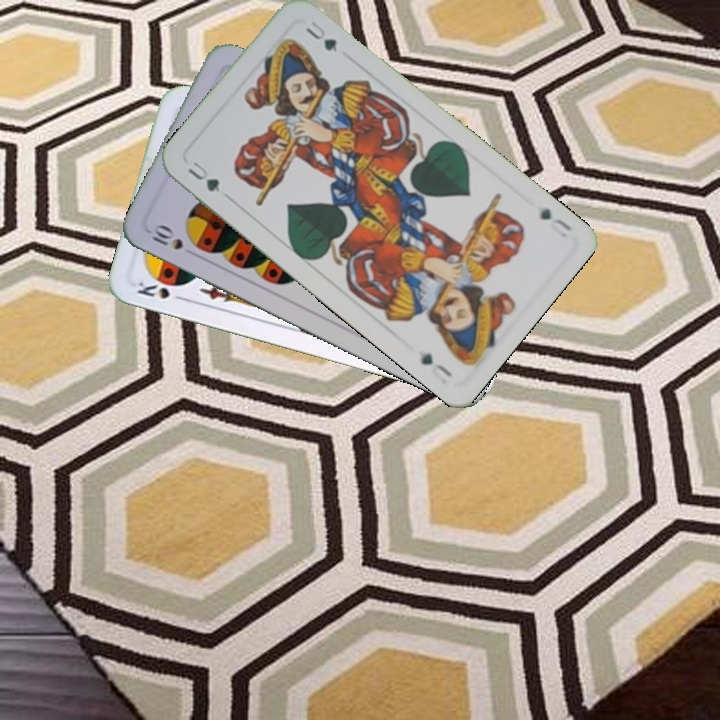GU: (183, 155, 223, 195), (535, 204, 575, 234)
S10: (148, 221, 186, 253)
SK: (133, 277, 189, 304)
